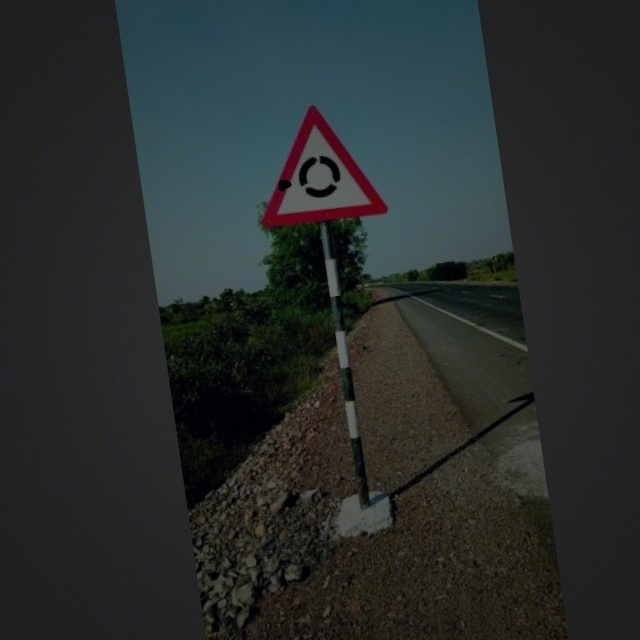Round_About: (249, 94, 391, 231)
